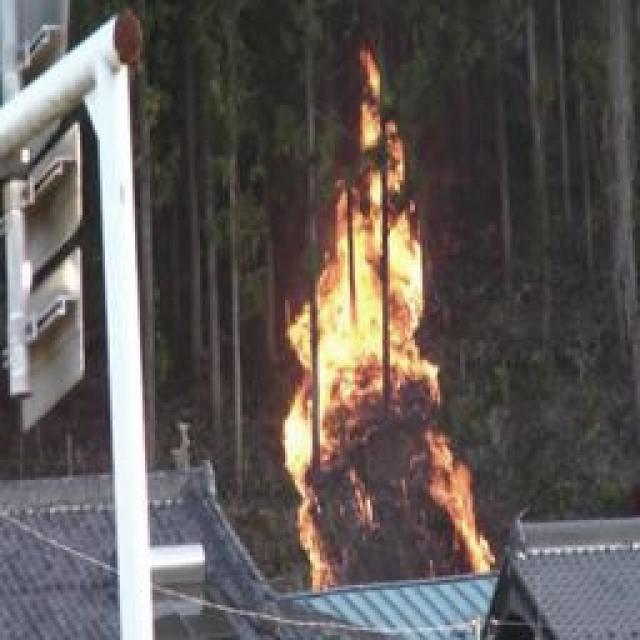Fire: (284, 47, 483, 587)
